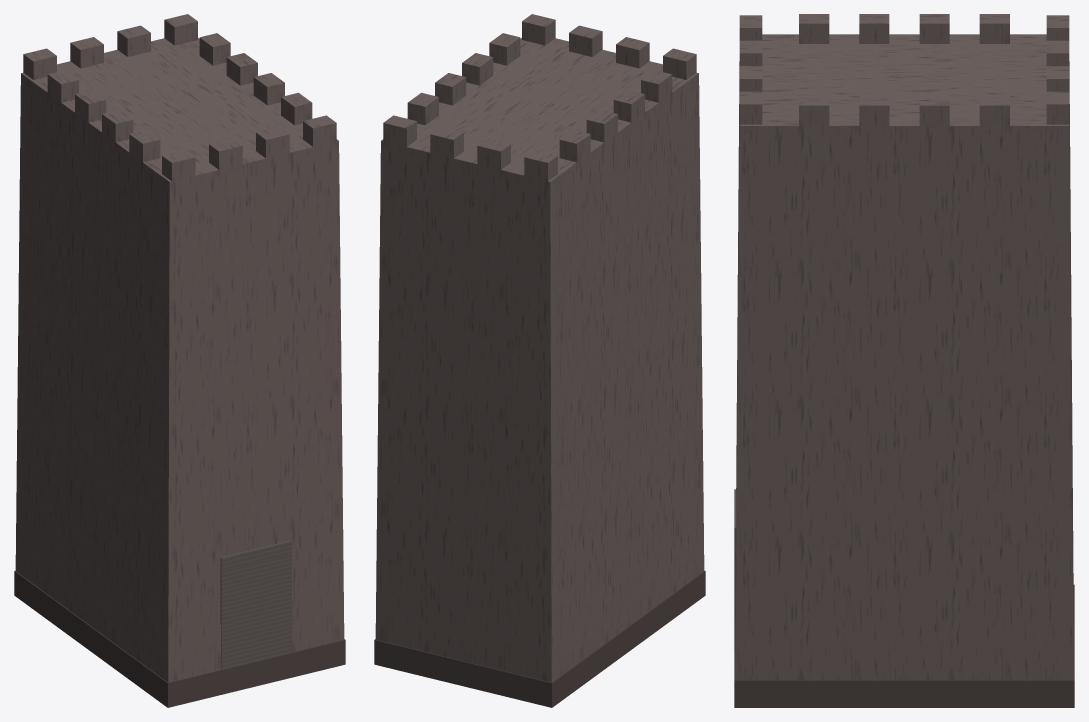
Rendered from SM_Souq_Warehouse_W3D45_Crenel.fbx.
The picture shows the model from 3 angles, left to right: view 1: azimuth 30°, elevation 25°; view 2: azimuth 150°, elevation 25°; view 3: azimuth 270°, elevation 25°; orthographic projection. The views are drawn at different scales.
Parts seen in each view (by area): view 1: SM_Souq_Warehouse_W3D45_Crenel; view 2: SM_Souq_Warehouse_W3D45_Crenel; view 3: SM_Souq_Warehouse_W3D45_Crenel.
Boxes of the visible parts, left/top/right/bottom form: SM_Souq_Warehouse_W3D45_Crenel: left=14, top=14, right=345, bottom=707; SM_Souq_Warehouse_W3D45_Crenel: left=374, top=14, right=705, bottom=707; SM_Souq_Warehouse_W3D45_Crenel: left=734, top=14, right=1074, bottom=707.
Size of the model in its own units: 302 by 880 by 452.
3 materials, 3 textured.
